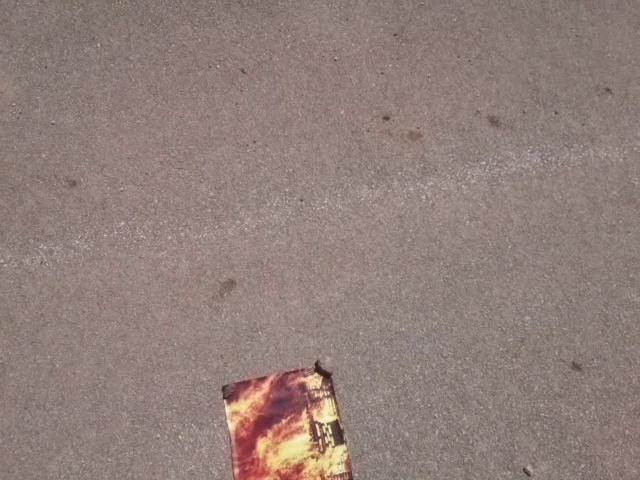fire-poster: (219, 358, 355, 479)
